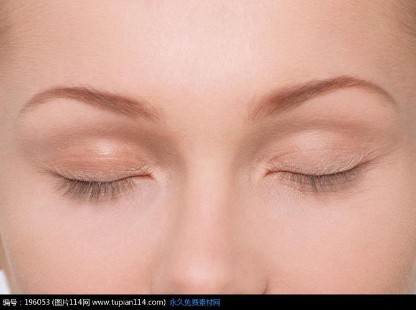闭眼: (243, 117, 384, 204), (28, 133, 161, 208)
